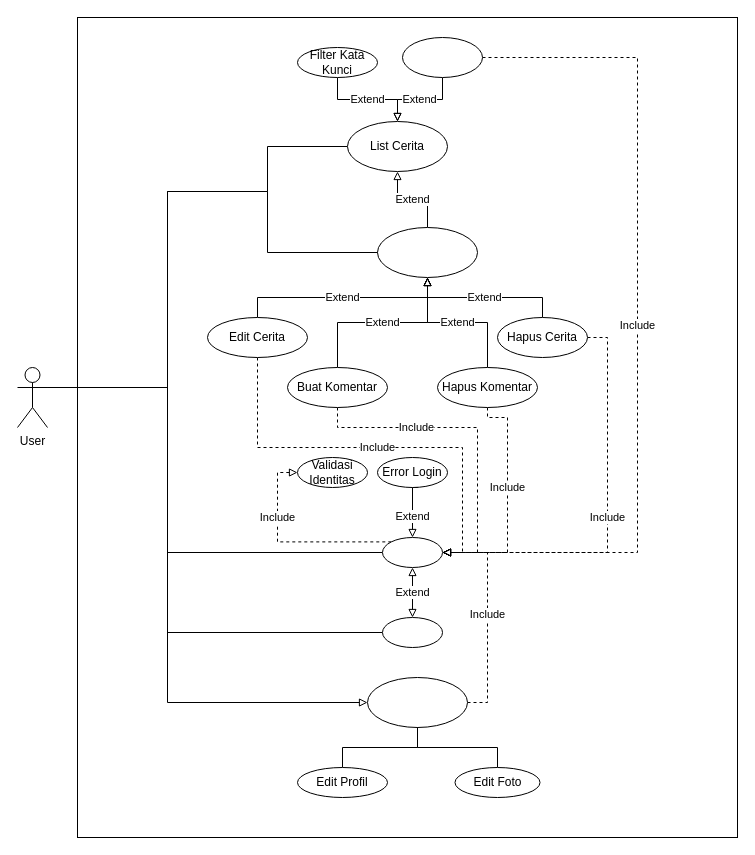
This 755x855 diagram has some shape labels left out. Each missing label, with the box of its shape:
Detail Cerita: (376, 226, 478, 278)
Detail Profil: (366, 676, 468, 728)
Filter Cerita Milik Sendiri: (402, 36, 482, 78)
Login: (382, 536, 442, 568)
Register: (382, 616, 442, 648)
